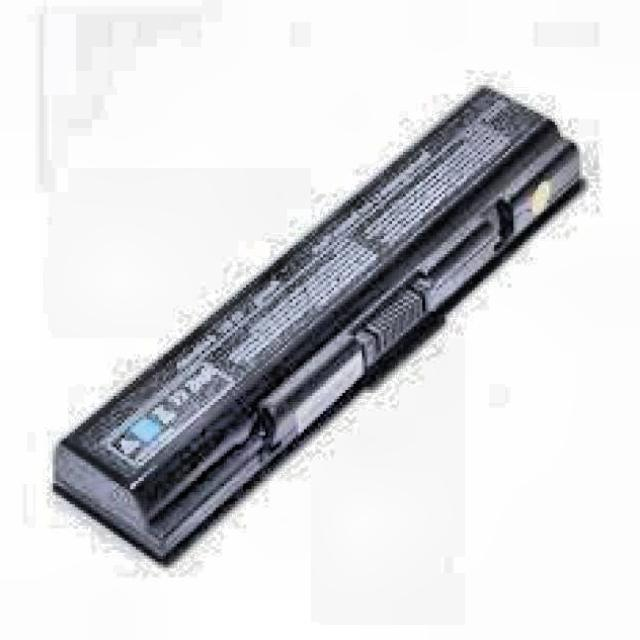battery: (56, 85, 582, 556)
